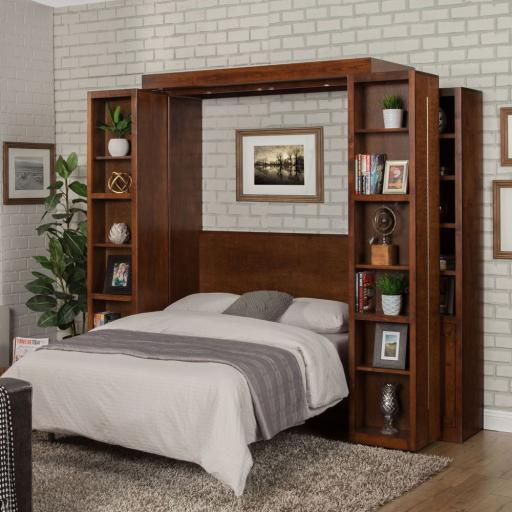bed: (1, 290, 349, 498)
